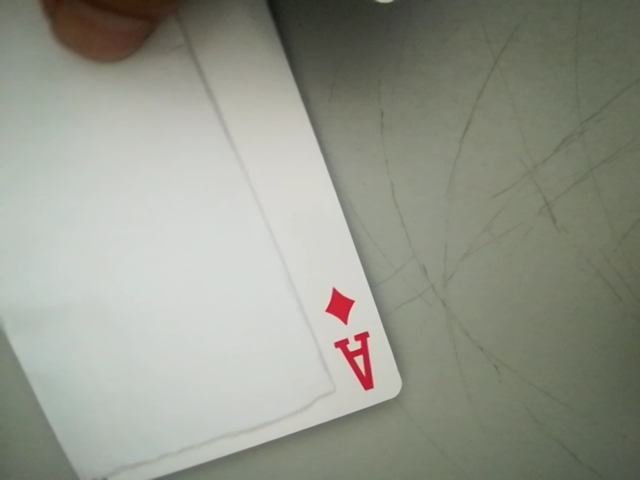fk a: (317, 278, 389, 406)
